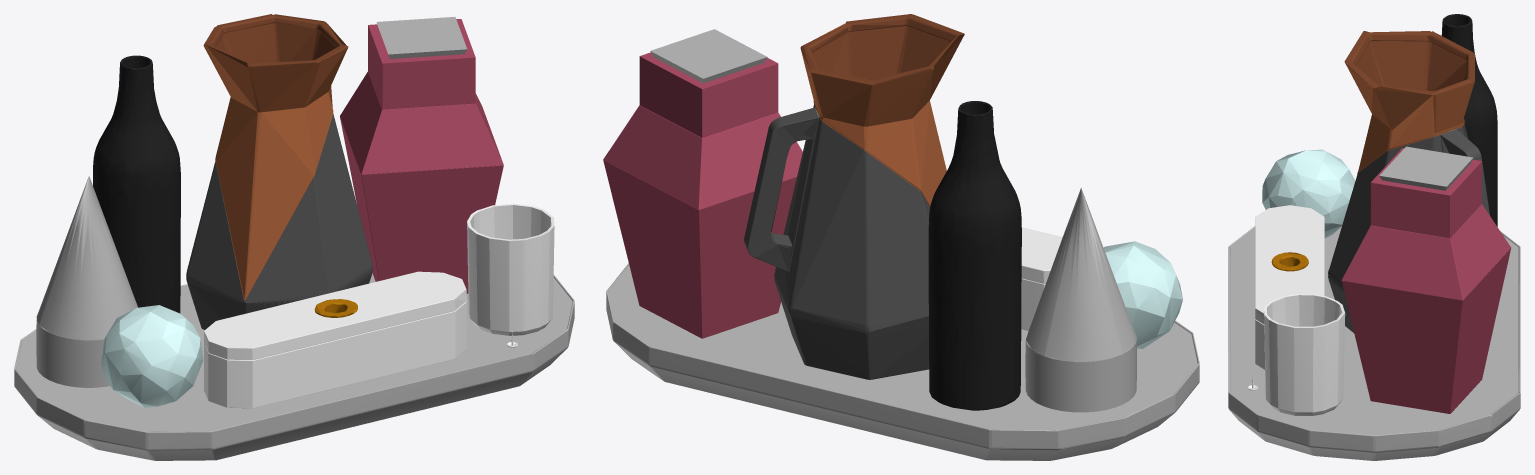
Rendered from surahiler vs.fbx.
The picture shows the model from 3 angles, left to right: view 1: azimuth 30°, elevation 25°; view 2: azimuth 150°, elevation 25°; view 3: azimuth 270°, elevation 25°; orthographic projection. The views are drawn at different scales.
Parts seen in each view (by area): view 1: Cylinder014, Cylinder010, Cylinder004, Plane003, Cylinder005, Cylinder008, Cylinder015, Plane004, Cone001, Sphere001, Plane005, Cylinder001 (+2 smaller); view 2: Cylinder014, Cylinder010, Cylinder004, Plane003, Plane004, Cone001, Plane005, Cylinder001, Sphere001, Box001, Cylinder008, Cylinder005; view 3: Cylinder010, Cylinder014, Plane003, Cylinder015, Plane004, Cylinder008, Plane005, Sphere001, Cylinder004, Box001, Cylinder009, Cylinder005.
Boxes of the visible parts, x1,y1,x2,y2 form: Cylinder014: (186, 14, 372, 329); Cylinder010: (14, 273, 574, 460); Cylinder004: (93, 55, 180, 313); Plane003: (340, 117, 503, 293); Cylinder005: (204, 301, 466, 408); Cylinder008: (204, 271, 466, 360); Cylinder015: (467, 203, 554, 335); Plane004: (340, 72, 503, 174); Cone001: (36, 176, 137, 340); Sphere001: (101, 305, 203, 407); Plane005: (368, 19, 475, 109); Cylinder001: (36, 318, 109, 387); Cylinder014: (744, 14, 964, 379); Cylinder010: (606, 263, 1199, 460); Cylinder004: (928, 101, 1021, 410); Plane003: (603, 160, 796, 338); Plane004: (603, 105, 802, 209); Cone001: (1026, 188, 1136, 362); Plane005: (639, 52, 778, 137); Cylinder001: (1025, 331, 1136, 412); Sphere001: (1103, 241, 1182, 348); Box001: (650, 29, 767, 83); Cylinder008: (1021, 227, 1062, 283); Cylinder005: (1021, 278, 1045, 330); Cylinder010: (1228, 226, 1520, 460); Cylinder014: (1328, 31, 1489, 333); Plane003: (1341, 248, 1510, 413); Cylinder015: (1264, 294, 1345, 415); Plane004: (1342, 204, 1510, 300); Cylinder008: (1255, 205, 1324, 324); Plane005: (1370, 148, 1481, 238); Sphere001: (1262, 149, 1355, 238); Cylinder004: (1441, 14, 1497, 226); Box001: (1379, 146, 1472, 190); Cylinder009: (1271, 252, 1308, 271); Cylinder005: (1255, 319, 1264, 369).
Bounding box in the file's own units: 85.72 × 51.01 × 45.48.
